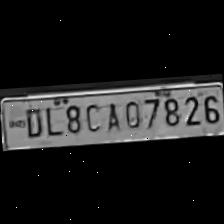0: (119, 96, 141, 130)
2: (178, 92, 200, 128)
6: (199, 91, 221, 125)
7: (138, 95, 160, 131)
8: (60, 100, 82, 136), (159, 94, 181, 128)
A: (100, 99, 120, 134)
C: (81, 98, 102, 134)
D: (19, 102, 44, 139)
L: (41, 101, 61, 137)
